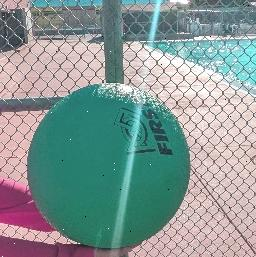algae: (29, 84, 193, 252)
